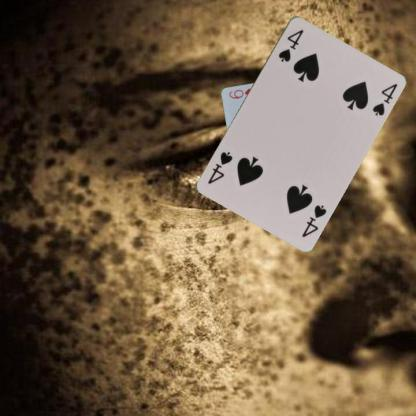4s: (275, 26, 305, 63), (299, 202, 328, 238)
